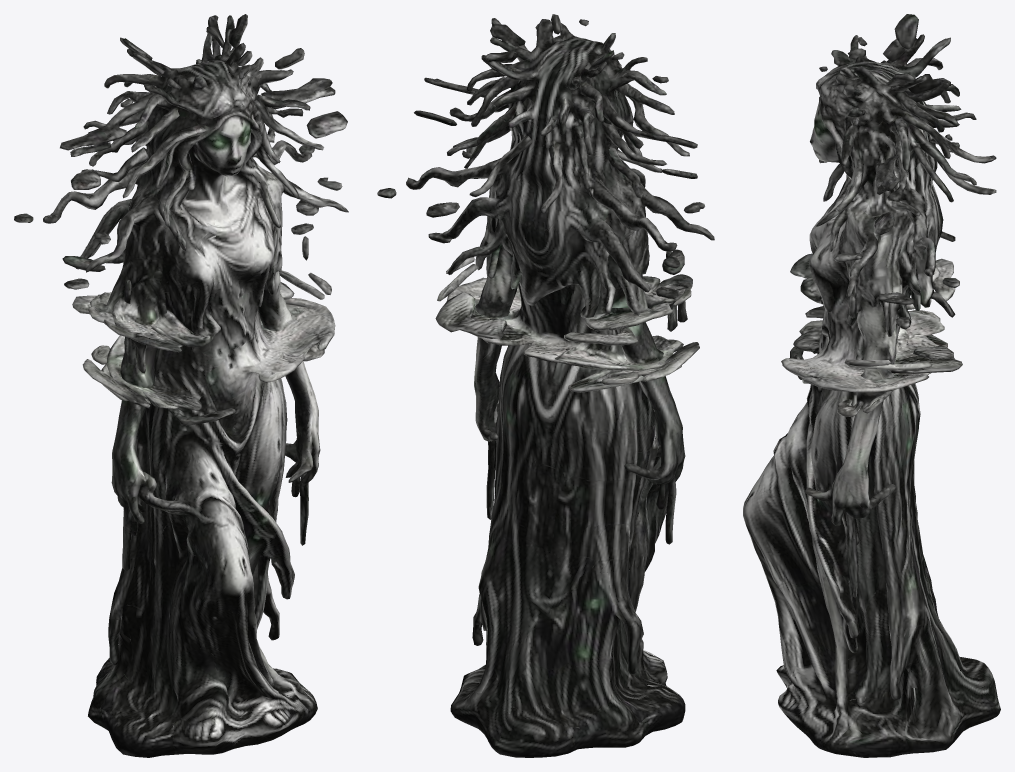
The model's file is Watt_Wattjungfrau.glb.
3 renders of one model, left to right at view 1: azimuth 30°, elevation 25°; view 2: azimuth 150°, elevation 25°; view 3: azimuth 270°, elevation 25°, orthographic. The views are drawn at different scales.
Size of the model in its own units: 0.8767 by 1.91 by 0.6654.
1 material, 1 textured.
